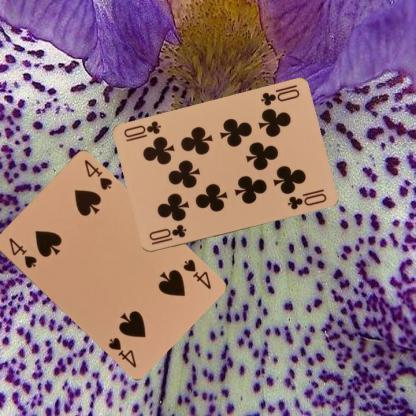10c: (146, 222, 188, 247), (258, 86, 300, 108)
4s: (5, 234, 38, 270), (180, 256, 212, 291)
